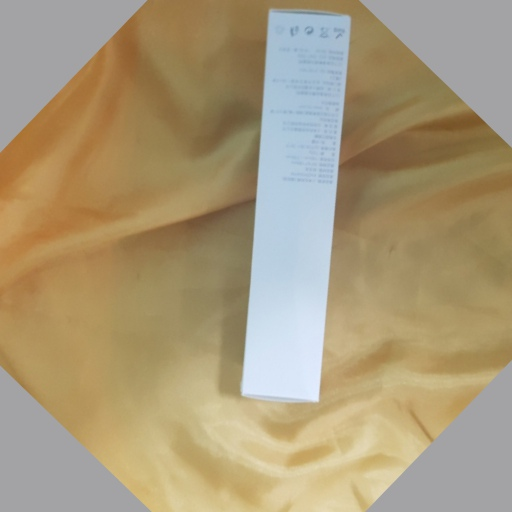Paper_0: (235, 3, 359, 425)
